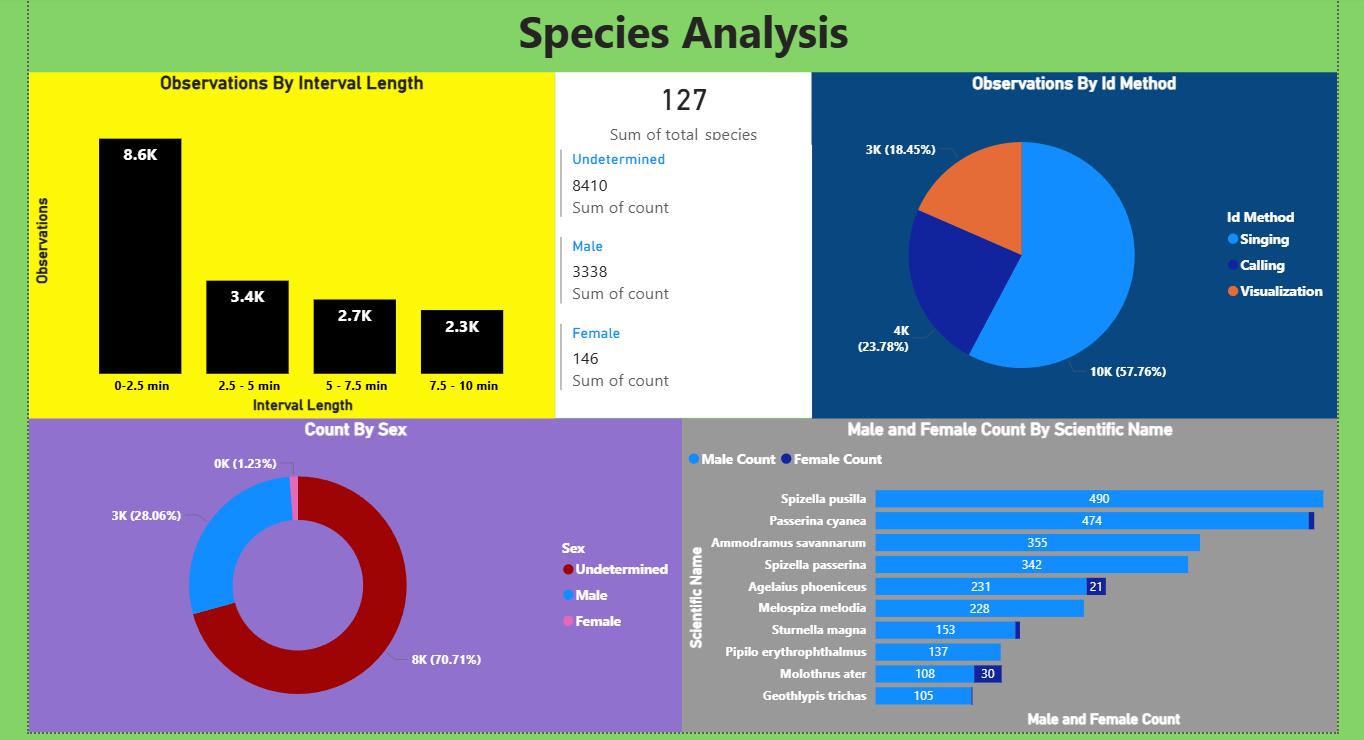

Layout of this report page (visuals, bound fields, positions):
{"tool":"powerbi","page":{"name":"Species Analysis","canvas":[1280,720],"ordinal":2},"visuals":[{"type":"card","fields":{"Values":["Sum(unique_species.total_species)"]},"box":[514.6,74.1,251.1,71.4],"z":0},{"type":"pieChart","title":"Observations By Id Method","fields":{"Category":["observation_by_activity_type (2).id_method"],"Y":["Sum(observation_by_activity_type (2).observations)"]},"box":[765.7,74.1,514.6,338.9],"z":2000},{"type":"clusteredColumnChart","title":"Observations By Interval Length","fields":{"Category":["average_observed_duration.interval_length"],"Y":["Sum(average_observed_duration.observations)"]},"box":[0,74.1,514.6,338.9],"z":3000},{"type":"donutChart","title":"Count By Sex","fields":{"Category":["overall_sex_distribution.sex"],"Y":["Sum(overall_sex_distribution.count)"]},"box":[0,413,639.5,307.4],"z":4000},{"type":"barChart","title":"Male and Female Count By Scientific Name","fields":{"Category":["sex_ratio_by_species.scientific_name"],"Y":["Sum(sex_ratio_by_species.male_count)","Sum(sex_ratio_by_species.female_count)"]},"box":[639.5,413,640.8,307.4],"z":5000},{"type":"textbox","box":[0,0,1280.3,68.6],"z":6000},{"type":"multiRowCard","fields":{"Values":["Sum(overall_sex_distribution.count)","overall_sex_distribution.sex"]},"box":[515,145.5,251.1,267.6],"z":7000}]}

Visuals, with their boxes on the page's 1280x720 design canvas (x1, y1, x2, y2). These are canvas units, not pixel positions in the 1364x740 screenshot, which may show the page scaled, cropped or inside an application window:
card - Sum(unique_species.total_species): Rect(515, 74, 766, 146)
"Observations By Id Method" pieChart: Rect(766, 74, 1280, 413)
"Observations By Interval Length" clusteredColumnChart: Rect(0, 74, 515, 413)
"Count By Sex" donutChart: Rect(0, 413, 640, 720)
"Male and Female Count By Scientific Name" barChart: Rect(640, 413, 1280, 720)
textbox: Rect(0, 0, 1280, 69)
multiRowCard - Sum(overall_sex_distribution.count) x overall_sex_distribution.sex: Rect(515, 146, 766, 413)
